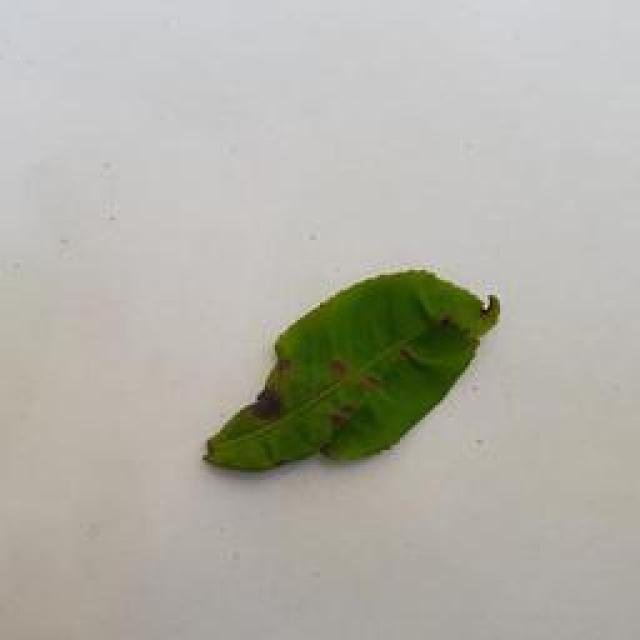Helopeltis: (198, 258, 508, 480)
